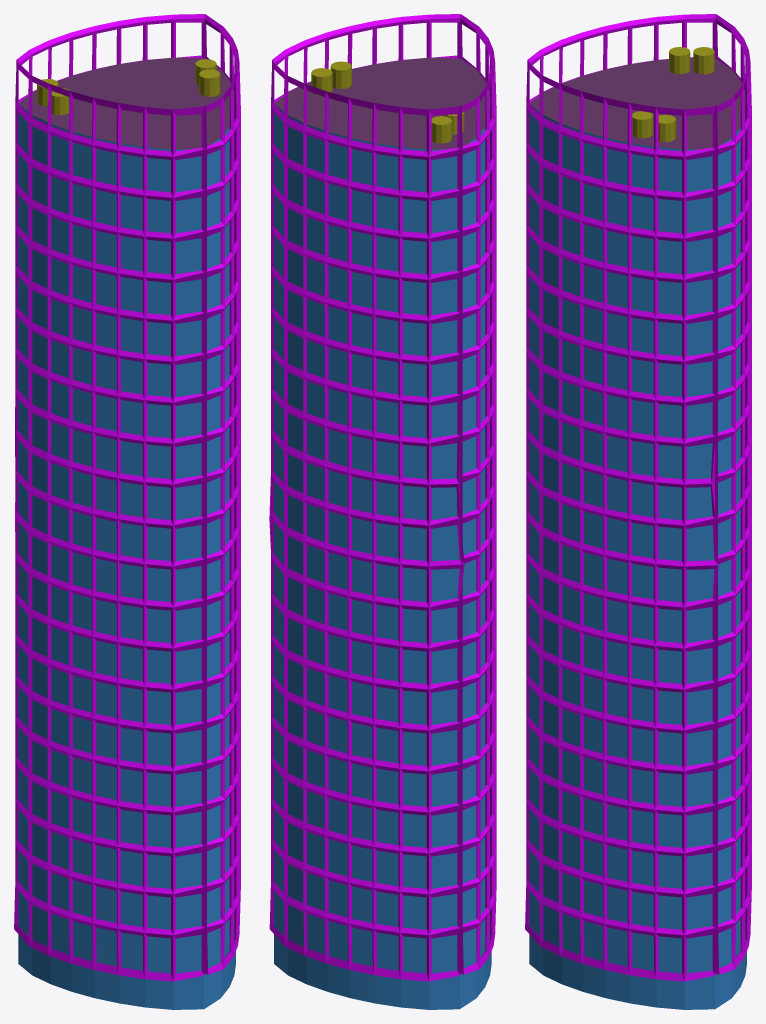
Rendered from Building5Skyscraper.fbx.
3 views of the same model, side by side, from view 1: azimuth 30°, elevation 25°; view 2: azimuth 150°, elevation 25°; view 3: azimuth 270°, elevation 25° (orthographic).
Visible parts, largest first — view 1: EdificioV5, Building5Grid, Building5TopProps; view 2: EdificioV5, Building5Grid, Building5TopProps; view 3: EdificioV5, Building5Grid, Building5TopProps.
Part boxes in pixels (bbox=[...]): EdificioV5: bbox=[18, 57, 235, 1009]; Building5Grid: bbox=[14, 14, 240, 981]; Building5TopProps: bbox=[37, 59, 220, 115]; EdificioV5: bbox=[274, 57, 491, 1009]; Building5Grid: bbox=[269, 14, 496, 981]; Building5TopProps: bbox=[311, 61, 464, 143]; EdificioV5: bbox=[529, 58, 746, 1009]; Building5Grid: bbox=[525, 14, 751, 981]; Building5TopProps: bbox=[632, 47, 714, 142].
Bounding box in the file's own units: 2119 × 9306 × 2115.
Materials: 3 (3 with a texture image).
